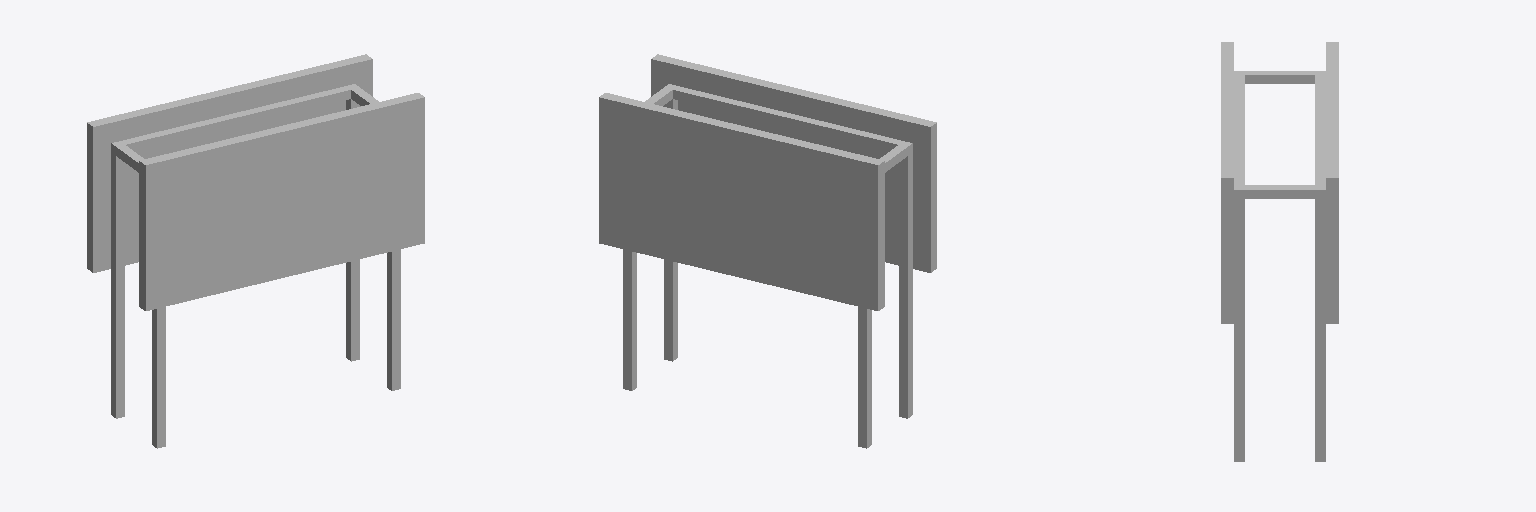
File: billboardDouble_exclusive.obj
3 renders of one model, left to right at view 1: azimuth 30°, elevation 25°; view 2: azimuth 150°, elevation 25°; view 3: azimuth 270°, elevation 25°, orthographic.
Parts seen in each view (by area): view 1: billboardDouble_exclusive; view 2: billboardDouble_exclusive; view 3: billboardDouble_exclusive.
Part boxes in pixels (x1,y1,x2,y2): billboardDouble_exclusive: (87, 54, 424, 448); billboardDouble_exclusive: (599, 54, 936, 448); billboardDouble_exclusive: (1221, 42, 1338, 461).
Size of the model in its own units: 10 by 10 by 3.64.